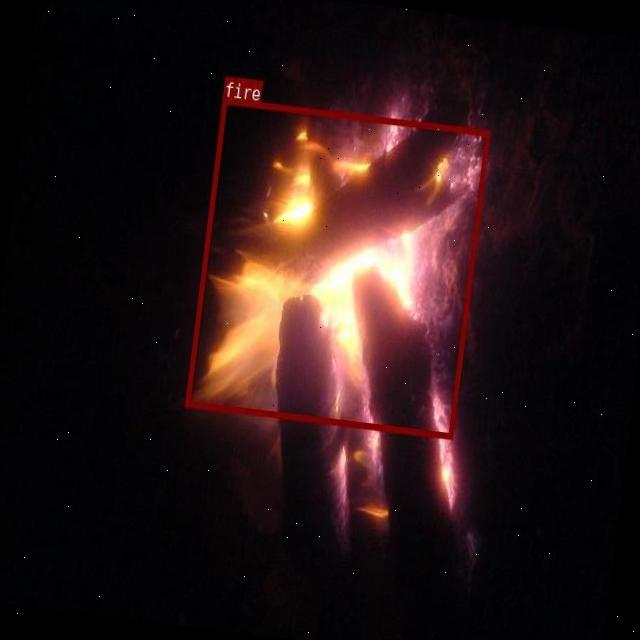fire: (185, 98, 490, 438)
